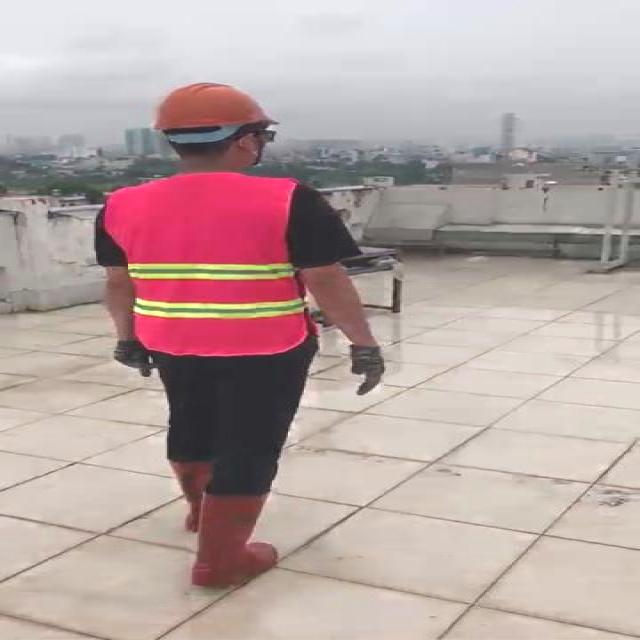boots: (190, 492, 276, 587), (164, 456, 215, 536)
hand_glove: (346, 343, 386, 396), (108, 338, 156, 375)
head_helmet: (150, 80, 286, 134)
person: (104, 74, 401, 594)
vest: (106, 175, 298, 356)
